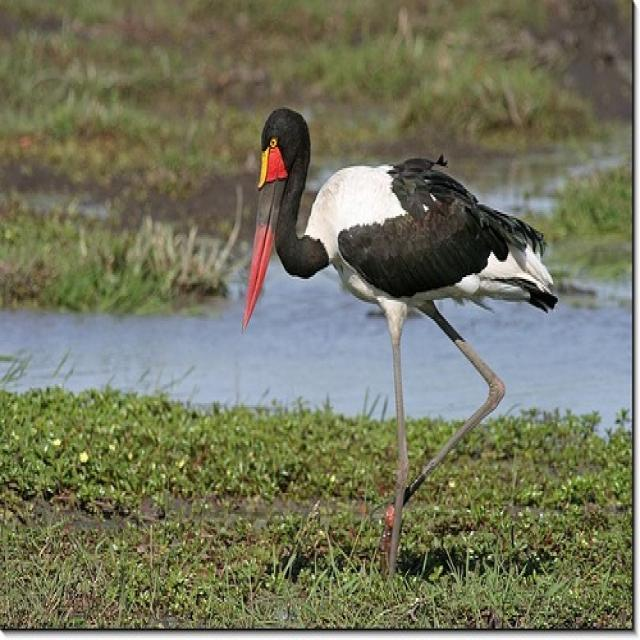bird: (242, 105, 561, 571)
